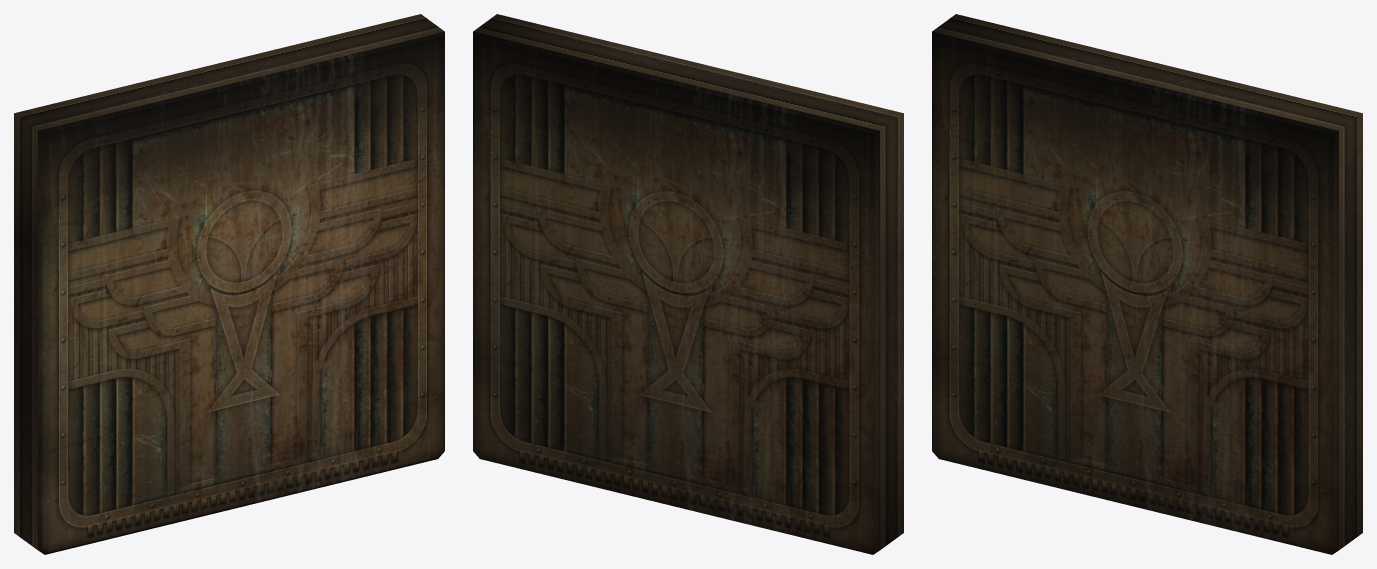
File: Door_Alternate_Closed_A.obj
3 views of the same model, side by side, from view 1: azimuth 30°, elevation 25°; view 2: azimuth 150°, elevation 25°; view 3: azimuth 330°, elevation 25° (orthographic).
Parts seen in each view (by area): view 1: Door_Alternate_Closed; view 2: Door_Alternate_Closed; view 3: Door_Alternate_Closed.
Boxes of the visible parts, box(x1,y1,x2,y2) form: Door_Alternate_Closed: box(14, 14, 444, 554); Door_Alternate_Closed: box(473, 14, 903, 554); Door_Alternate_Closed: box(932, 14, 1362, 554).
Bounding box in the file's own units: 256 × 256 × 29.61.
1 material, 1 textured.
